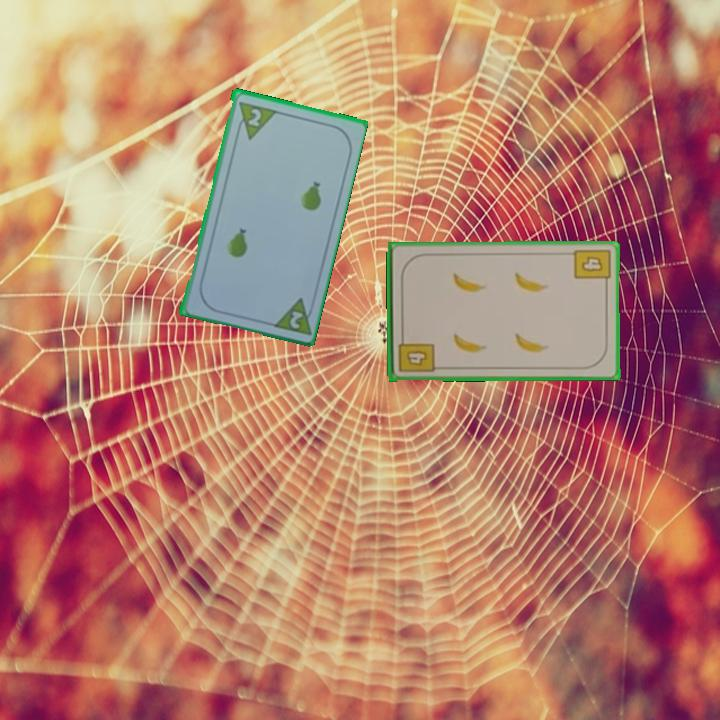2p: (268, 293, 317, 338), (244, 104, 264, 129)
4b: (571, 245, 613, 289), (395, 332, 436, 375)
